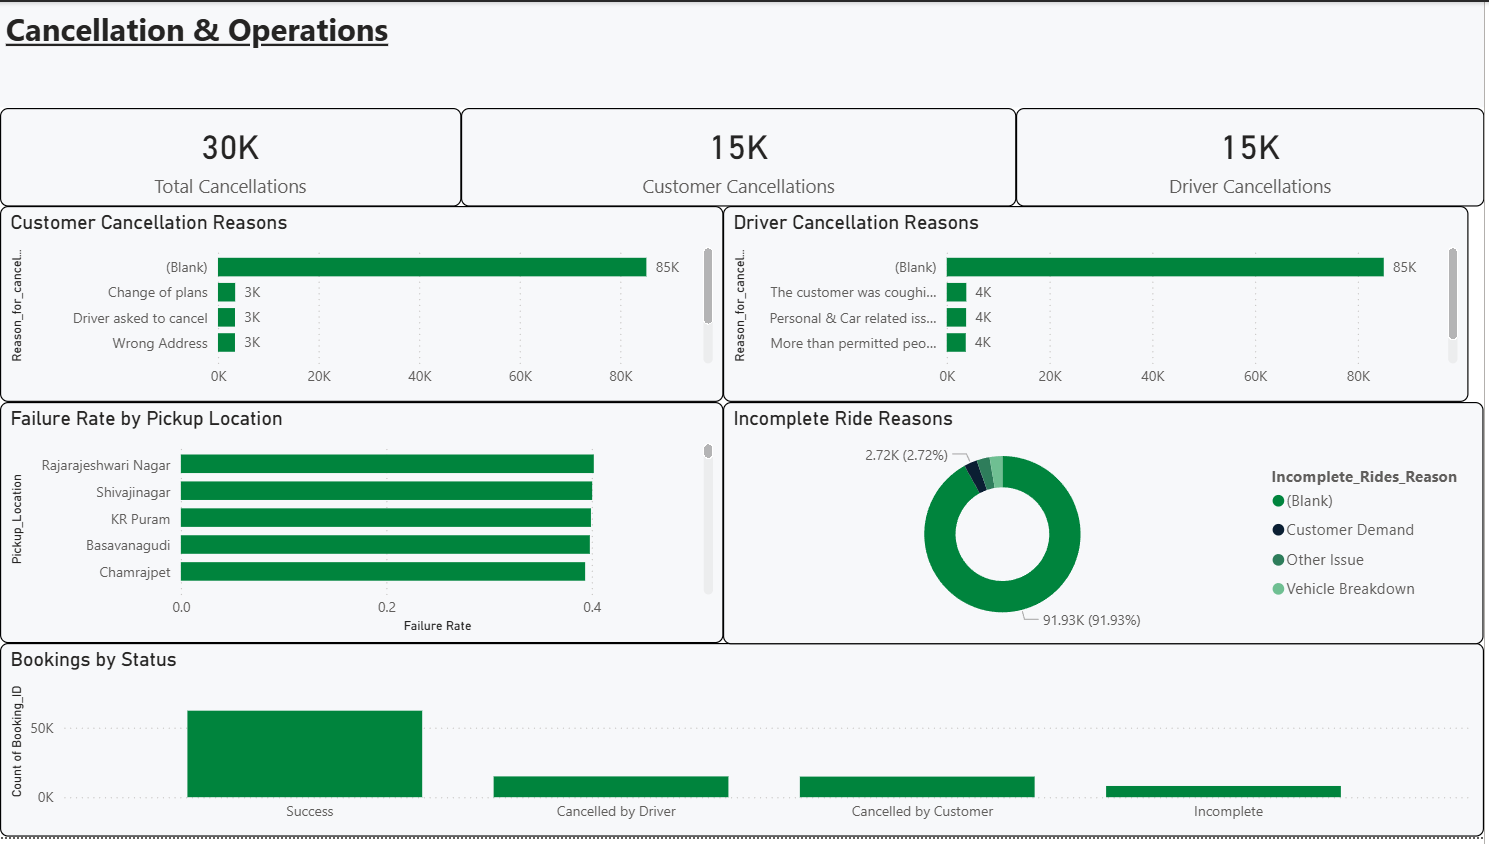

The dashboard page shown, as its layout file describes it:
{"tool":"powerbi","page":{"name":"Cancellation & Operations","canvas":[1280,720],"ordinal":2},"visuals":[{"type":"card","fields":{"Values":["bookings.Total Cancellations"]},"box":[0,91.2,397.5,85],"z":0},{"type":"card","fields":{"Values":["bookings.Customer Cancellations"]},"box":[397.5,91.2,478.8,85],"z":1000},{"type":"card","fields":{"Values":["bookings.Driver Cancellations"]},"box":[876.2,91.2,403.8,85],"z":2000},{"type":"barChart","title":"Customer Cancellation Reasons","fields":{"Category":["bookings.Reason_for_cancelling_by_Customer"],"Y":["CountNonNull(bookings.Booking_ID)"]},"box":[0,176.2,623.8,168.8],"z":3000},{"type":"barChart","title":"Driver Cancellation Reasons","fields":{"Y":["CountNonNull(bookings.Booking_ID)"],"Category":["bookings.Reason_for_cancelling_by_Driver"]},"box":[623.8,176.2,642.5,168.8],"z":4000},{"type":"columnChart","title":"Bookings by Status","fields":{"Category":["bookings.Booking_Status"],"Y":["CountNonNull(bookings.Booking_ID)"]},"box":[0,553,1280,167],"z":5000},{"type":"barChart","title":"Failure Rate by Pickup Location","fields":{"Category":["bookings.Pickup_Location"],"Y":["bookings.Failure Rate"]},"box":[0,345,624,208],"z":6000},{"type":"donutChart","title":"Incomplete Ride Reasons","fields":{"Category":["bookings.Incomplete_Rides_Reason"],"Y":["CountNonNull(bookings.Booking_ID)"]},"box":[624,345,656,209],"z":7000},{"type":"textbox","box":[0,0,1280,91.2],"z":8000}]}

Visuals, with their boxes in screenshot pixels (x1, y1, x2, y2), scaled from the page's 1280x720 canvas onto the 1489x844 screenshot:
card - bookings.Total Cancellations: x1=0, y1=107, x2=462, y2=207
card - bookings.Customer Cancellations: x1=462, y1=107, x2=1019, y2=207
card - bookings.Driver Cancellations: x1=1019, y1=107, x2=1488, y2=207
"Customer Cancellation Reasons" barChart: x1=0, y1=207, x2=726, y2=404
"Driver Cancellation Reasons" barChart: x1=726, y1=207, x2=1473, y2=404
"Bookings by Status" columnChart: x1=0, y1=648, x2=1488, y2=843
"Failure Rate by Pickup Location" barChart: x1=0, y1=404, x2=726, y2=648
"Incomplete Ride Reasons" donutChart: x1=726, y1=404, x2=1488, y2=649
textbox: x1=0, y1=0, x2=1488, y2=107
